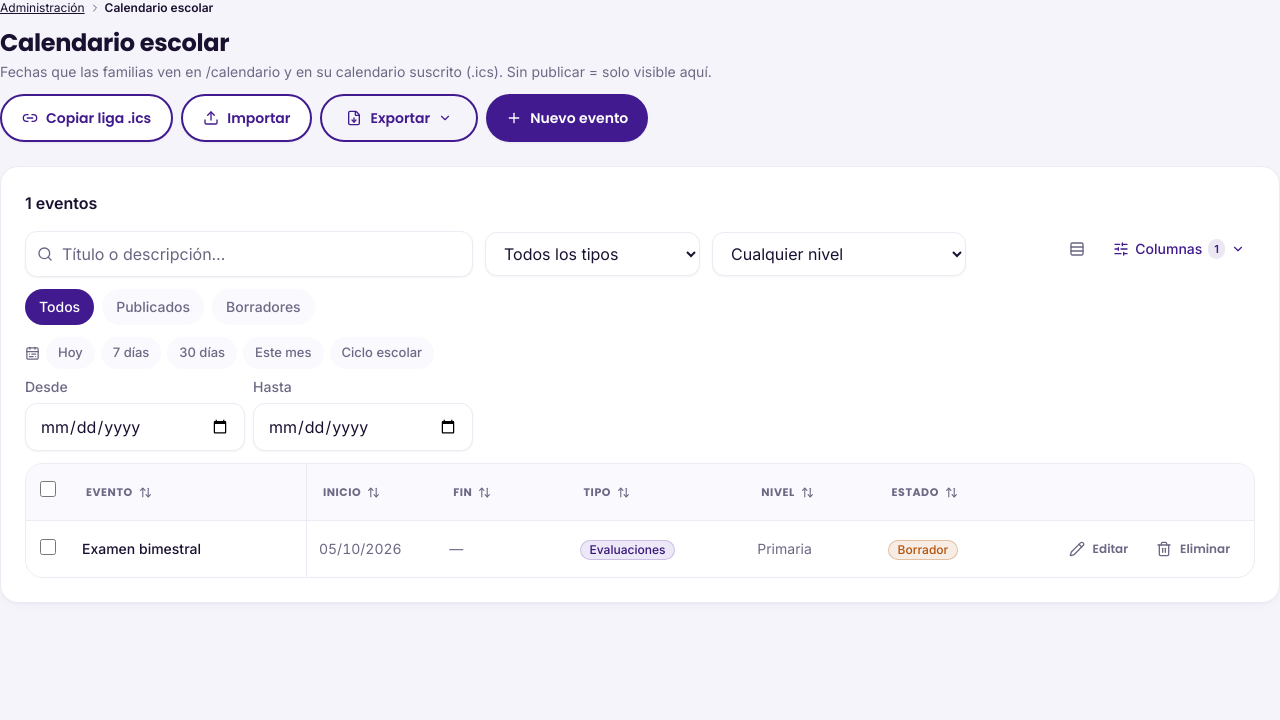
Test case: AdminCalendar › bulk publish goes through the dry-run plan
Expected: the text "Examen bimestral" is shown, [70,520,307,577]
Step 1. Click the checkbox named "Seleccionar evento Examen bimestral" → (48, 546), box [40,538,56,554]
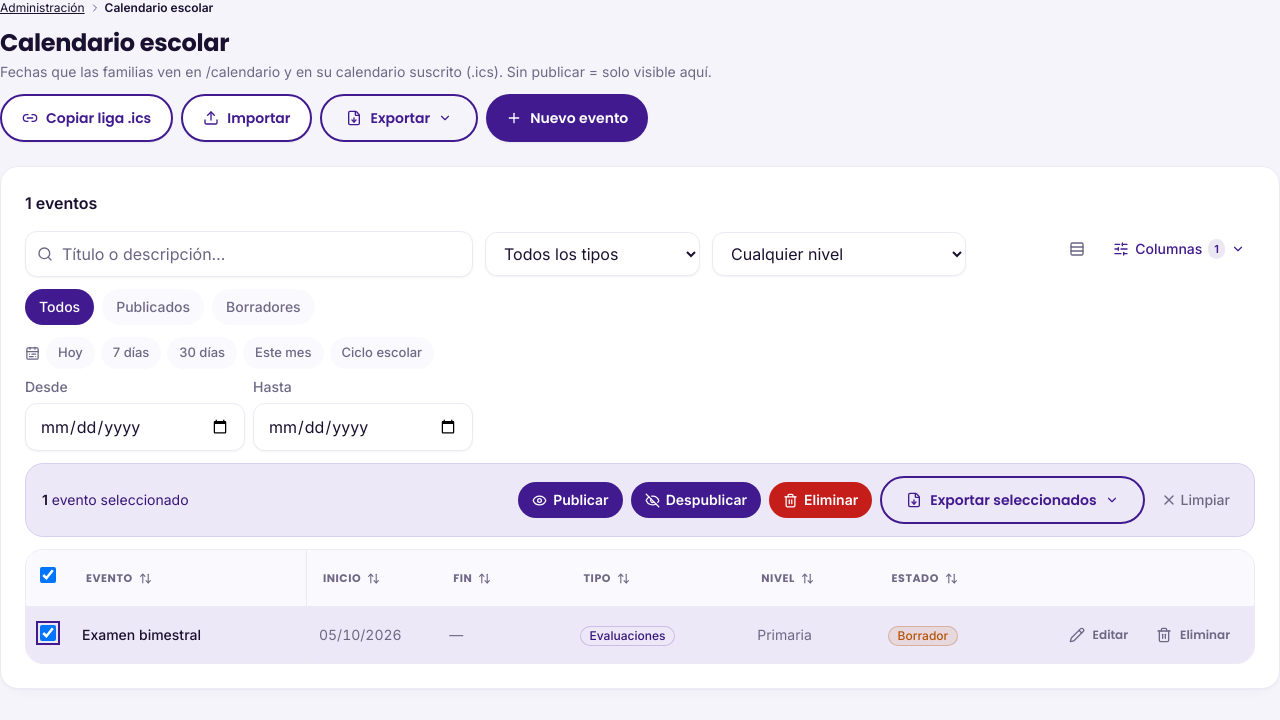
Step 2. Click the button "Publicar" → (570, 500), box [518,482,623,518]
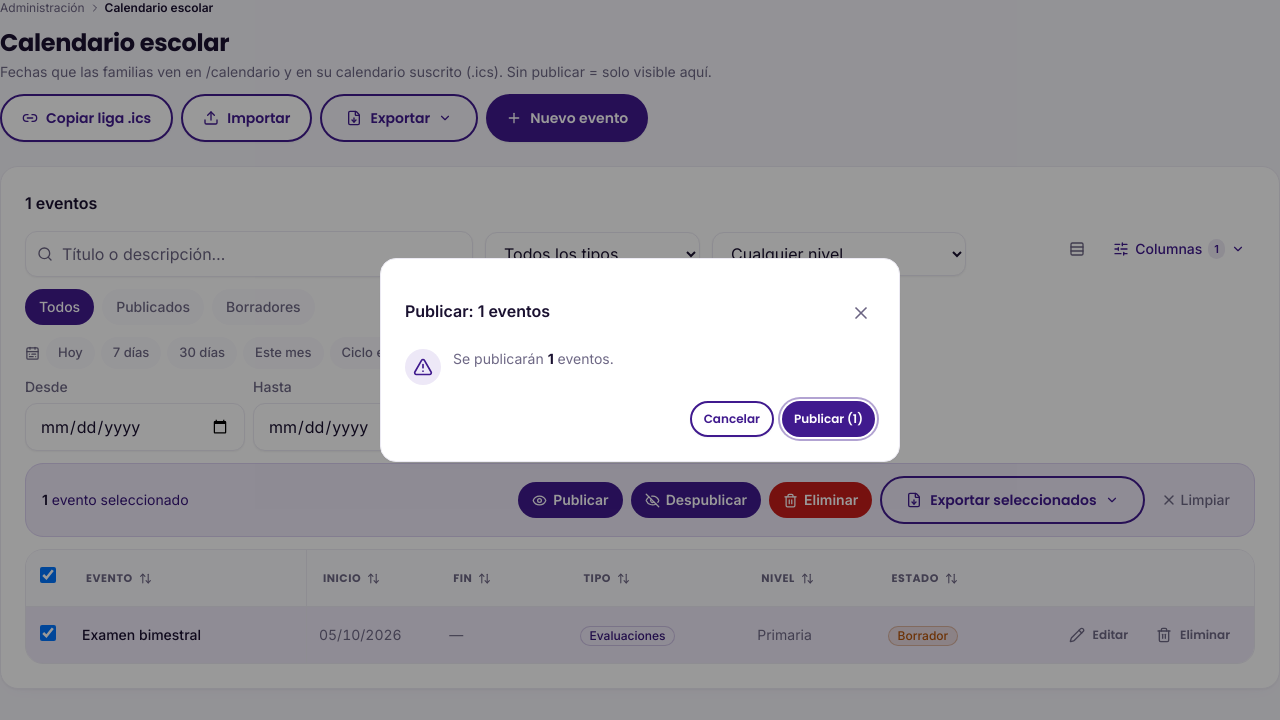
Expected: the button "Publicar (1)" is enabled, [782,401,875,437]
